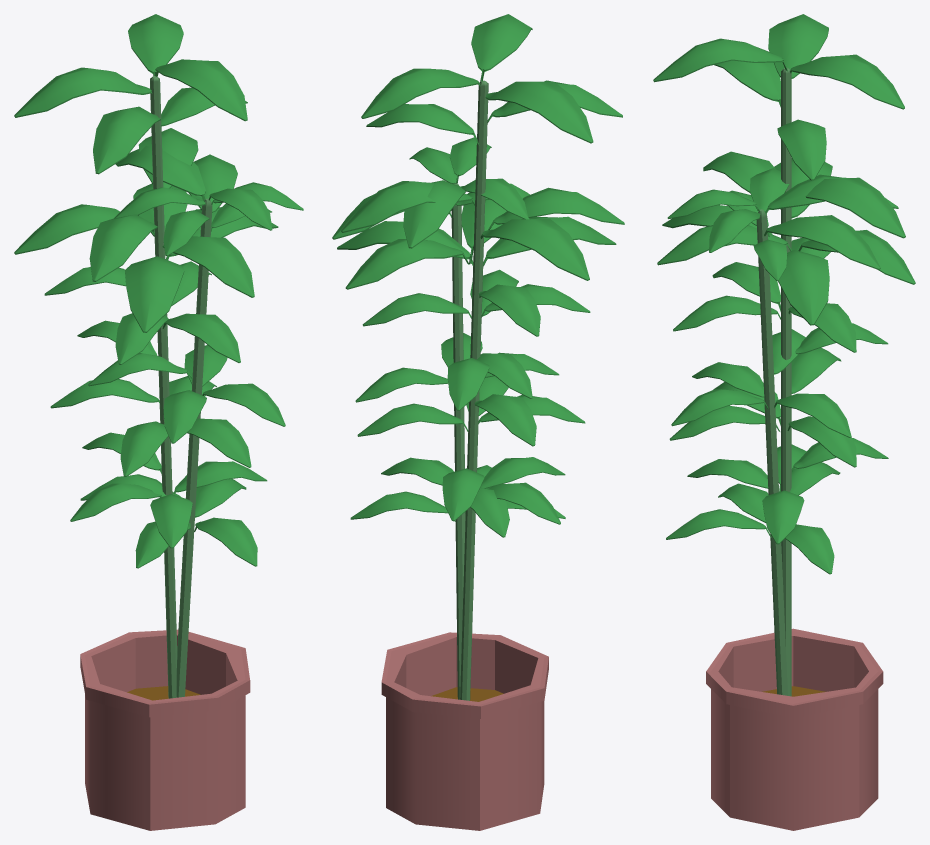
The model's file is Houseplant.fbx.
3 views of the same model, side by side, from view 1: azimuth 30°, elevation 25°; view 2: azimuth 150°, elevation 25°; view 3: azimuth 270°, elevation 25° (orthographic).
Visible parts, largest first — view 1: plantPot1; view 2: plantPot1; view 3: plantPot1.
Part boxes in pixels (box(x1,y1,x2,y2)): plantPot1: box(14, 14, 303, 830); plantPot1: box(332, 14, 624, 830); plantPot1: box(653, 14, 915, 830).
Size of the model in its own units: 0.5612 by 1.56 by 0.4928.
